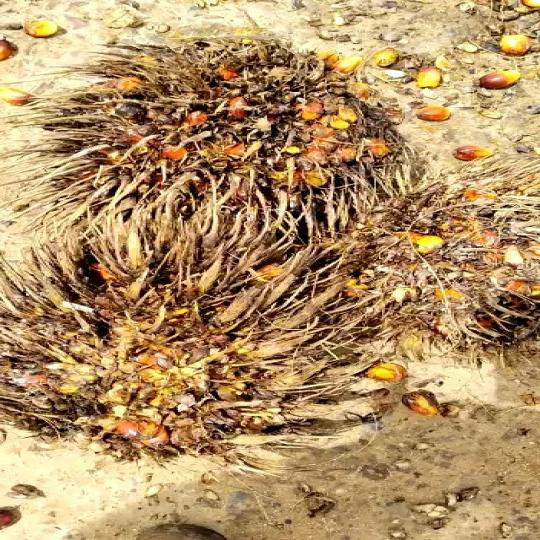terlalu masak: (0, 215, 378, 453), (52, 46, 412, 227)
